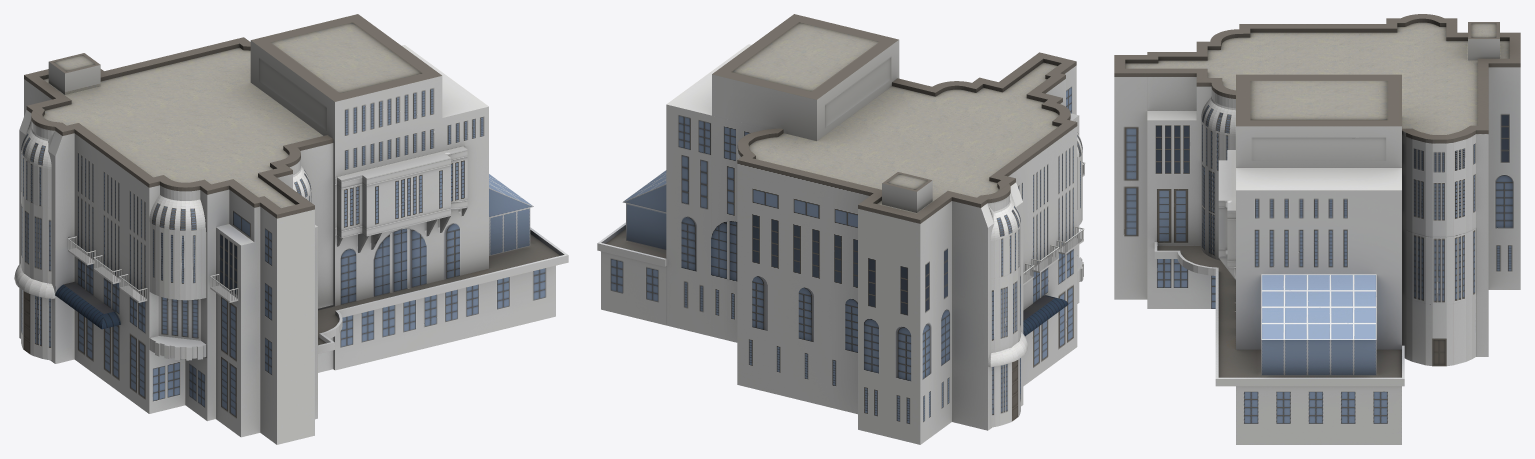
The picture shows the model from 3 angles, left to right: view 1: azimuth 30°, elevation 25°; view 2: azimuth 150°, elevation 25°; view 3: azimuth 270°, elevation 25°; orthographic projection. The views are drawn at different scales.
Visible parts, largest first — view 1: op; view 2: op; view 3: op.
Boxes of the visible parts, x1=… form: op: x1=14, y1=14, x2=568, y2=444; op: x1=597, y1=14, x2=1085, y2=444; op: x1=1114, y1=14, x2=1520, y2=444.
Bounding box in the file's own units: 49.14 × 28.48 × 39.69.
Materials: 3 (3 with a texture image).
